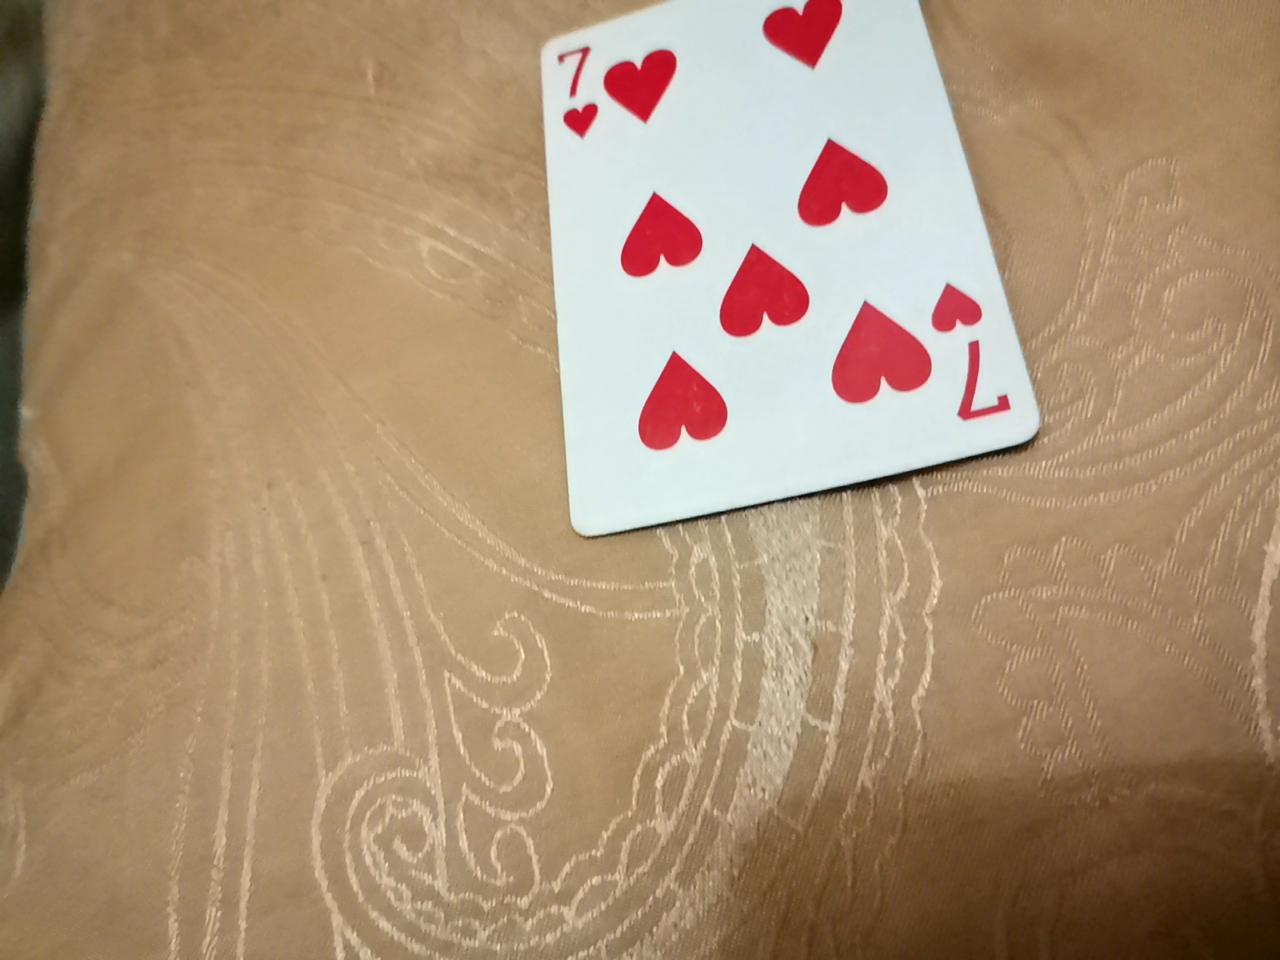hx 7: (549, 0, 1035, 514)
